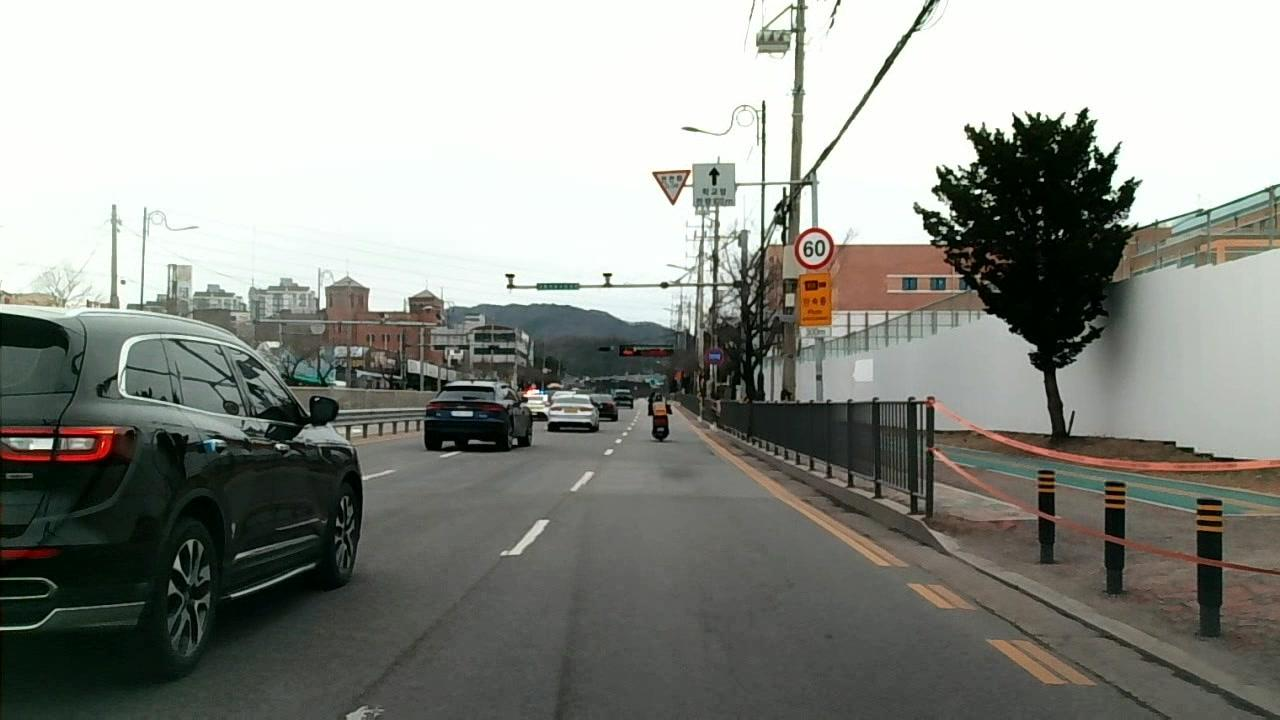vcrack: (341, 610, 440, 717)
